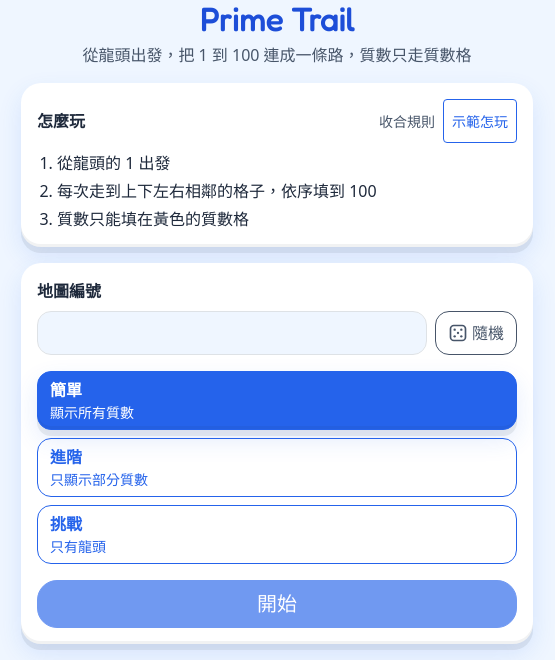
Test: HomeView › random fills an id within 1…count
(page scrolled)
What coordinates should you click on to do the following:
click the button "隨機"
I would click on:
 (476, 333)
Its box is x1=435 y1=311 x2=517 y2=355.
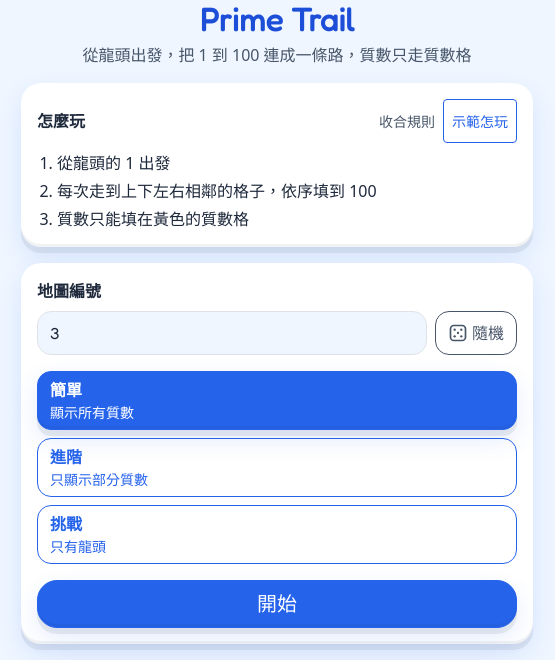
expect the number field labelled "地圖編號" holds "3": met, box x1=37 y1=311 x2=427 y2=355
What coordinates should you click on to do the following:
click the button "隨機"
I would click on:
 (476, 333)
Its box is x1=435 y1=311 x2=517 y2=355.
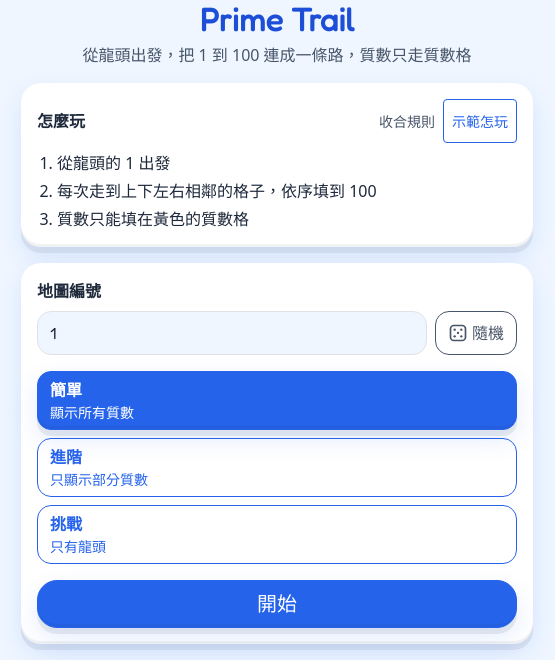
expect the button "開始" is enabled: met, box x1=37 y1=580 x2=517 y2=628
expect the number field labelled "地圖編號" holds "1": met, box x1=37 y1=311 x2=427 y2=355
